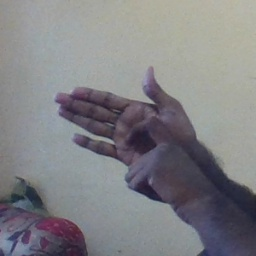R: (52, 65, 183, 196)
